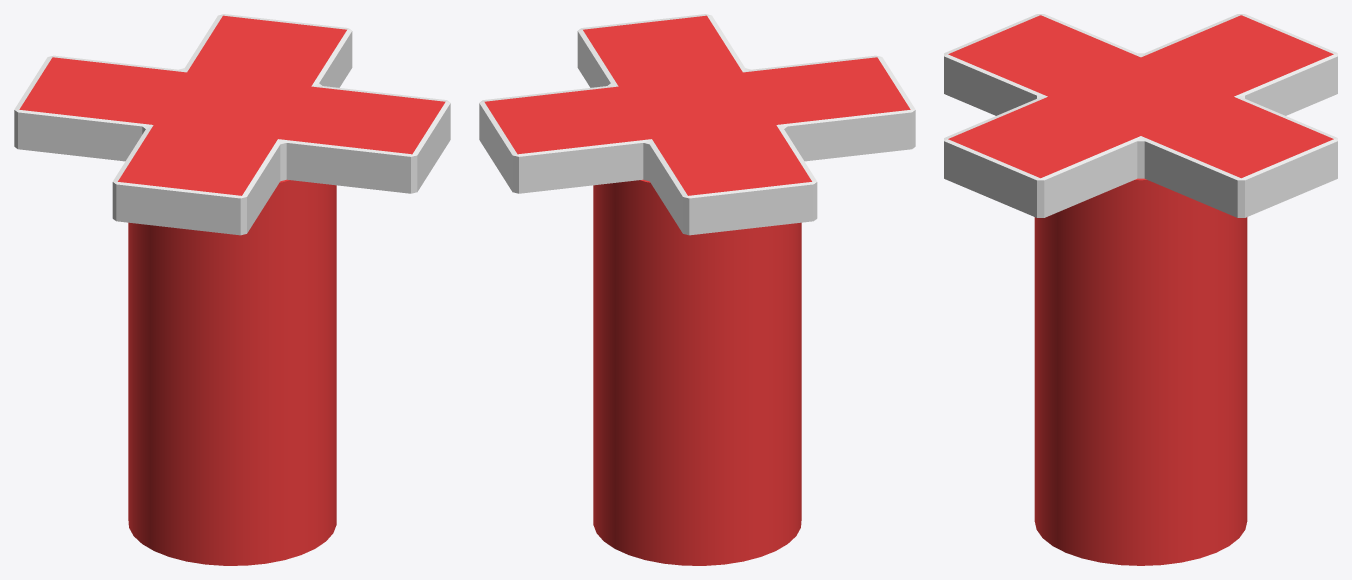
File: x_short.fbx
3 views of the same model, side by side, from view 1: azimuth 30°, elevation 25°; view 2: azimuth 150°, elevation 25°; view 3: azimuth 270°, elevation 25° (orthographic).
Parts seen in each view (by area): view 1: X-pipe-short, X-mark; view 2: X-pipe-short, X-mark; view 3: X-pipe-short, X-mark.
Boxes of the visible parts, bbox=[...] form: X-pipe-short: bbox=[128, 179, 336, 565]; X-mark: bbox=[14, 14, 450, 235]; X-pipe-short: bbox=[593, 179, 801, 565]; X-mark: bbox=[479, 14, 915, 235]; X-pipe-short: bbox=[1034, 178, 1247, 565]; X-mark: bbox=[944, 14, 1337, 217].
Size of the model in its own units: 92.51 by 110 by 92.51.
